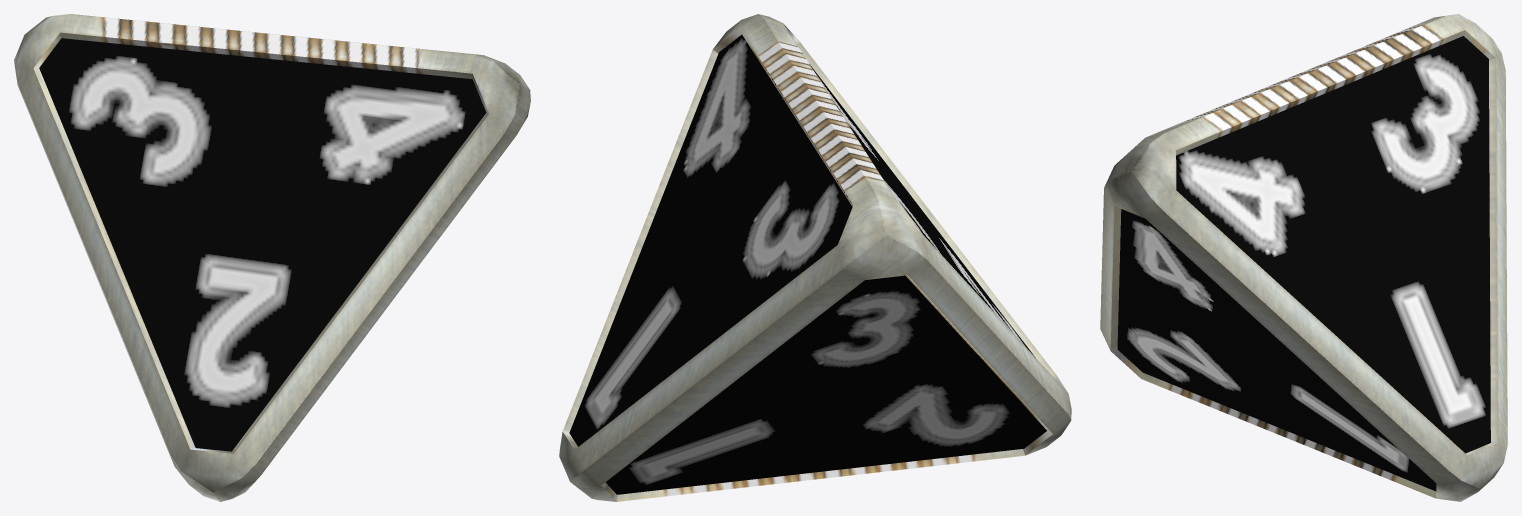
3 views of the same model, side by side, from view 1: azimuth 30°, elevation 25°; view 2: azimuth 150°, elevation 25°; view 3: azimuth 270°, elevation 25° (orthographic). The views are drawn at different scales.
Parts seen in each view (by area): view 1: D4_Numbers, D4; view 2: D4_Numbers, D4; view 3: D4_Numbers, D4.
Boxes of the visible parts, <box> form: D4_Numbers: <box>39,38,486,451</box>; D4: <box>14,14,530,501</box>; D4_Numbers: <box>569,34,1046,494</box>; D4: <box>559,14,1071,501</box>; D4_Numbers: <box>1117,36,1490,491</box>; D4: <box>1100,14,1507,501</box>.
Bounding box in the file's own units: 1.53 × 1.53 × 1.53.
2 materials, 2 textured.
